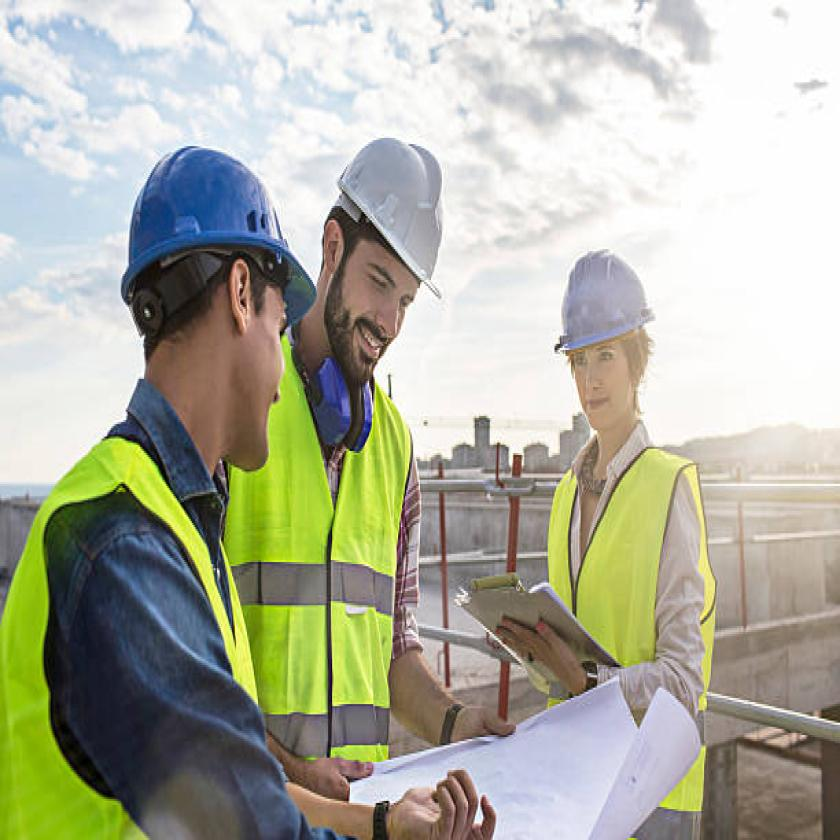Con_casco: (108, 132, 311, 489), (323, 107, 459, 408), (534, 223, 692, 467)
